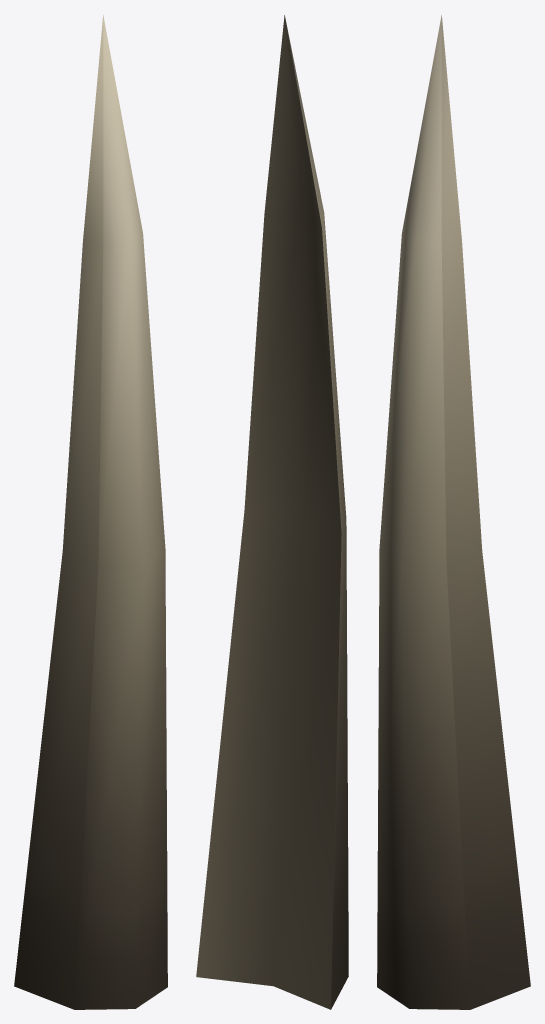
File: Bone_2A.fbx
The picture shows the model from 3 angles, left to right: view 1: azimuth 30°, elevation 25°; view 2: azimuth 150°, elevation 25°; view 3: azimuth 330°, elevation 25°; orthographic projection.
Visible parts, largest first — view 1: Bone_2A; view 2: Bone_2A; view 3: Bone_2A.
Part boxes in pixels (x1,y1,x2,y2): Bone_2A: [14, 15, 167, 1009]; Bone_2A: [196, 15, 348, 1009]; Bone_2A: [377, 15, 530, 1009].
Size of the model in its own units: 0.1991 by 1.36 by 0.155.
